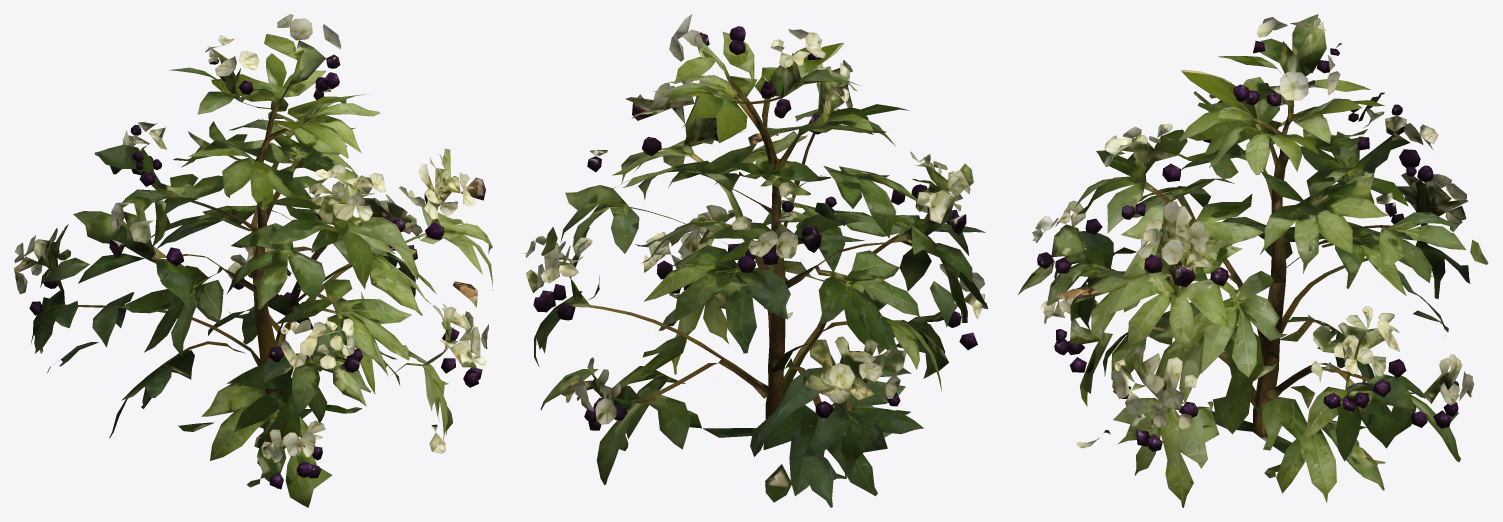
File: elder.glb
3 renders of one model, left to right at view 1: azimuth 30°, elevation 25°; view 2: azimuth 150°, elevation 25°; view 3: azimuth 270°, elevation 25°, orthographic. The views are drawn at different scales.
Visible parts, largest first — view 1: tripo_node_96bedfce-fcee-4c18-b301-35f007842b4f; view 2: tripo_node_96bedfce-fcee-4c18-b301-35f007842b4f; view 3: tripo_node_96bedfce-fcee-4c18-b301-35f007842b4f.
Boxes of the visible parts, x1,y1,x2,y2 form: tripo_node_96bedfce-fcee-4c18-b301-35f007842b4f: (14, 14, 492, 507); tripo_node_96bedfce-fcee-4c18-b301-35f007842b4f: (523, 14, 987, 507); tripo_node_96bedfce-fcee-4c18-b301-35f007842b4f: (1018, 14, 1488, 507).
Size of the model in its own units: 0.978 by 0.98 by 0.9995.
1 material, 1 textured.
